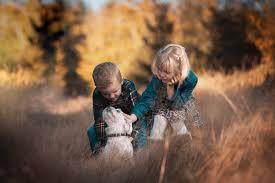child: (138, 44, 207, 145), (78, 58, 147, 154)
